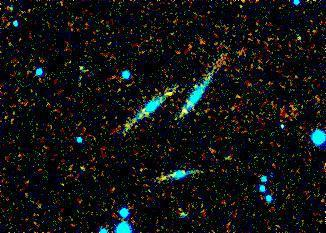star: (169, 81, 199, 111)
